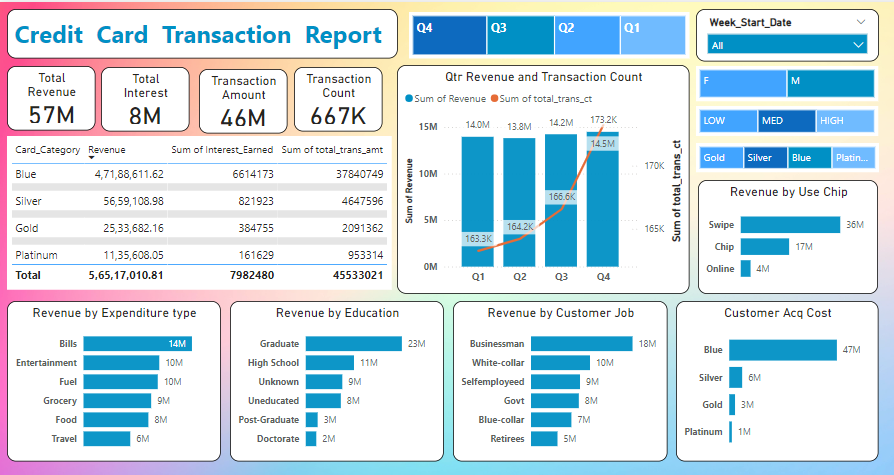

What the dashboard file says about the page in this screenshot:
{"tool":"powerbi","page":{"name":"CC Transaction","canvas":[1280,720],"ordinal":0},"visuals":[{"type":"textbox","box":[10,8.8,521.2,66.2],"z":0},{"type":"lineStackedColumnComboChart","title":"Qtr Revenue and Transaction Count","fields":{"Category":["public cc_detail.qtr"],"Y":["Sum(public cc_detail.Revenue)"],"Y2":["Sum(public cc_detail.total_trans_ct)"]},"box":[531.2,84.4,389.6,305.2],"z":1000},{"type":"barChart","title":"Revenue by Expenditure type","fields":{"Y":["Sum(public cc_detail.Revenue)"],"Category":["public cc_detail.exp_type"]},"box":[10.4,398.7,285,214.3],"z":2000},{"type":"barChart","title":"Revenue by Education","fields":{"Y":["Sum(public cc_detail.Revenue)"],"Category":["public cust_detail.education_level"]},"box":[307.8,398.7,285,214.3],"z":3000},{"type":"barChart","title":"Revenue by Customer Job","fields":{"Y":["Sum(public cc_detail.Revenue)"],"Category":["public cust_detail.customer_job"]},"box":[605.2,398.7,285.7,214.3],"z":4000},{"type":"barChart","title":"Customer Acq Cost","fields":{"Y":["Sum(public cc_detail.Revenue)"],"Category":["public cc_detail.card_category"]},"box":[902.6,398.7,270.1,214.3],"z":5000},{"type":"barChart","title":"Revenue by Use Chip","fields":{"Y":["Sum(public cc_detail.Revenue)"],"Category":["public cc_detail.use_chip"]},"box":[932.5,237.7,240.3,151.9],"z":6000},{"type":"tableEx","fields":{"Values":["public cc_detail.card_category","Sum(public cc_detail.Revenue)","Sum(public cc_detail.interest_earned)","Sum(public cc_detail.total_trans_amt)"]},"box":[10,178.8,512.5,205],"z":7000},{"type":"card","title":"Total Revenue","fields":{"Values":["Sum(public cc_detail.Revenue)"]},"box":[10,85,117.5,86.2],"z":8000},{"type":"card","title":"Transaction Amount","fields":{"Values":["Sum(public cc_detail.total_trans_amt)"]},"box":[266.2,88.8,117.5,86.2],"z":9000},{"type":"card","title":"Transaction Count","fields":{"Values":["Sum(public cc_detail.total_trans_ct)"]},"box":[393.8,86.2,117.5,86.2],"z":10000},{"type":"card","title":"Total Interest","fields":{"Values":["Sum(public cc_detail.interest_earned)"]},"box":[136.2,86.2,117.5,86.2],"z":11000},{"type":"slicer","fields":{"Values":["public cc_detail.week_start_date"]},"box":[929.9,9.1,244.2,70.1],"z":12000},{"type":"treemap","fields":{"Group":["public cust_detail.gender"],"Values":["Avg(public cc_detail.client_num)"]},"box":[929.9,85.7,242.9,46.8],"z":13000},{"type":"treemap","fields":{"Group":["public cc_detail.qtr"],"Values":["Avg(public cc_detail.client_num)"]},"box":[546.8,13,374,62.3],"z":14000},{"type":"treemap","fields":{"Group":["public cc_detail.card_category"],"Values":["Avg(public cc_detail.client_num)"]},"box":[929.9,188.3,244.2,39],"z":15000},{"type":"treemap","fields":{"Group":["public cust_detail.Income_Group"],"Values":["Avg(public cc_detail.client_num)"]},"box":[929.9,139,242.9,40.3],"z":16000}]}

Visuals, with their boxes on the page's 1280x720 design canvas (x1, y1, x2, y2). These are canvas units, not pixel positions in the 894x475 screenshot, which may show the page scaled, cropped or inside an application window:
textbox: bbox=[10, 9, 531, 75]
"Qtr Revenue and Transaction Count" lineStackedColumnComboChart: bbox=[531, 84, 921, 390]
"Revenue by Expenditure type" barChart: bbox=[10, 399, 295, 613]
"Revenue by Education" barChart: bbox=[308, 399, 593, 613]
"Revenue by Customer Job" barChart: bbox=[605, 399, 891, 613]
"Customer Acq Cost" barChart: bbox=[903, 399, 1173, 613]
"Revenue by Use Chip" barChart: bbox=[932, 238, 1173, 390]
tableEx - public cc_detail.card_category x Sum(public cc_detail.Revenue): bbox=[10, 179, 522, 384]
"Total Revenue" card: bbox=[10, 85, 128, 171]
"Transaction Amount" card: bbox=[266, 89, 384, 175]
"Transaction Count" card: bbox=[394, 86, 511, 172]
"Total Interest" card: bbox=[136, 86, 254, 172]
slicer - public cc_detail.week_start_date: bbox=[930, 9, 1174, 79]
treemap - public cust_detail.gender x Avg(public cc_detail.client_num): bbox=[930, 86, 1173, 132]
treemap - public cc_detail.qtr x Avg(public cc_detail.client_num): bbox=[547, 13, 921, 75]
treemap - public cc_detail.card_category x Avg(public cc_detail.client_num): bbox=[930, 188, 1174, 227]
treemap - public cust_detail.Income_Group x Avg(public cc_detail.client_num): bbox=[930, 139, 1173, 179]
